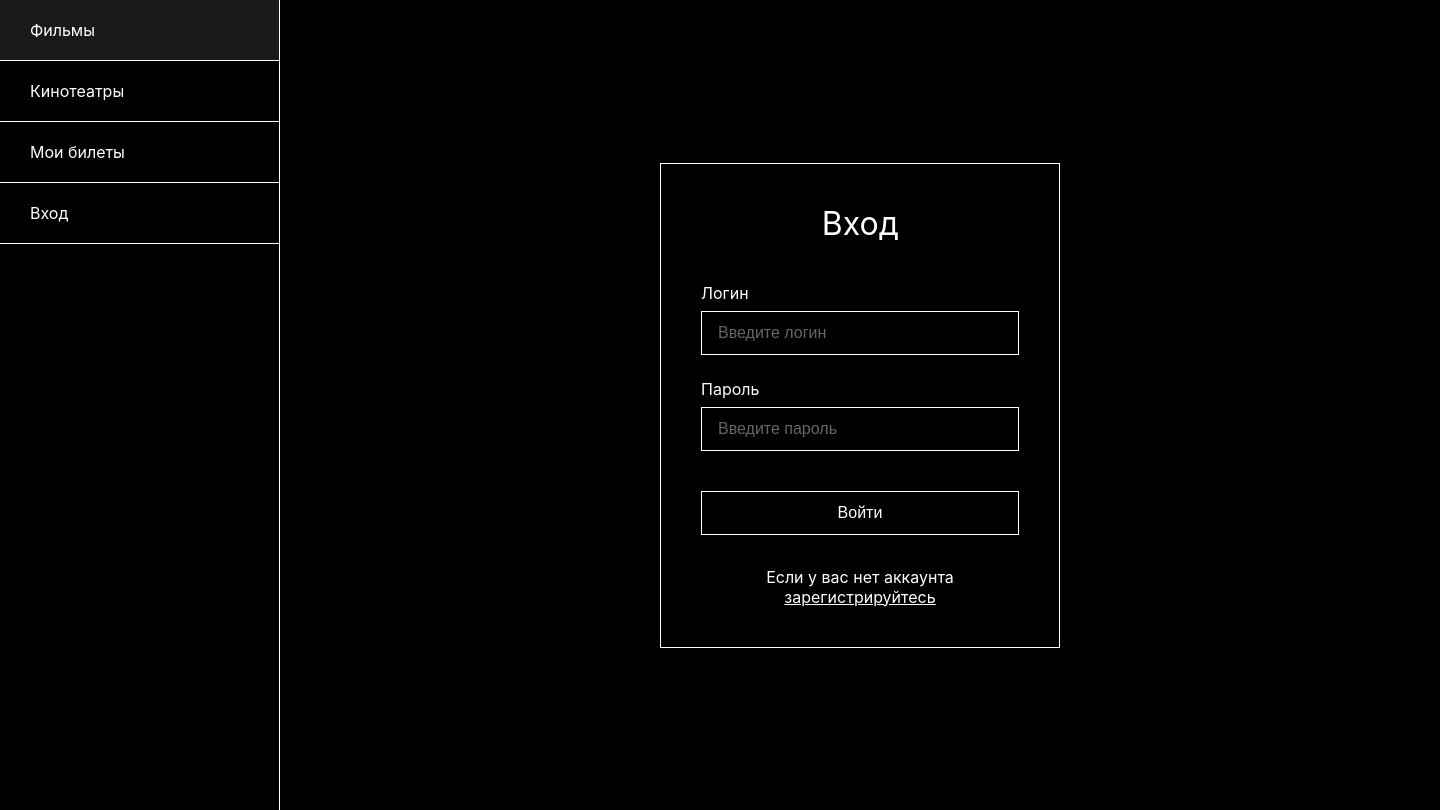
LoginPage › shows validation errors for empty fields
Step 1. Click the button "Войти" → click(860, 512), box [701,490,1019,534]
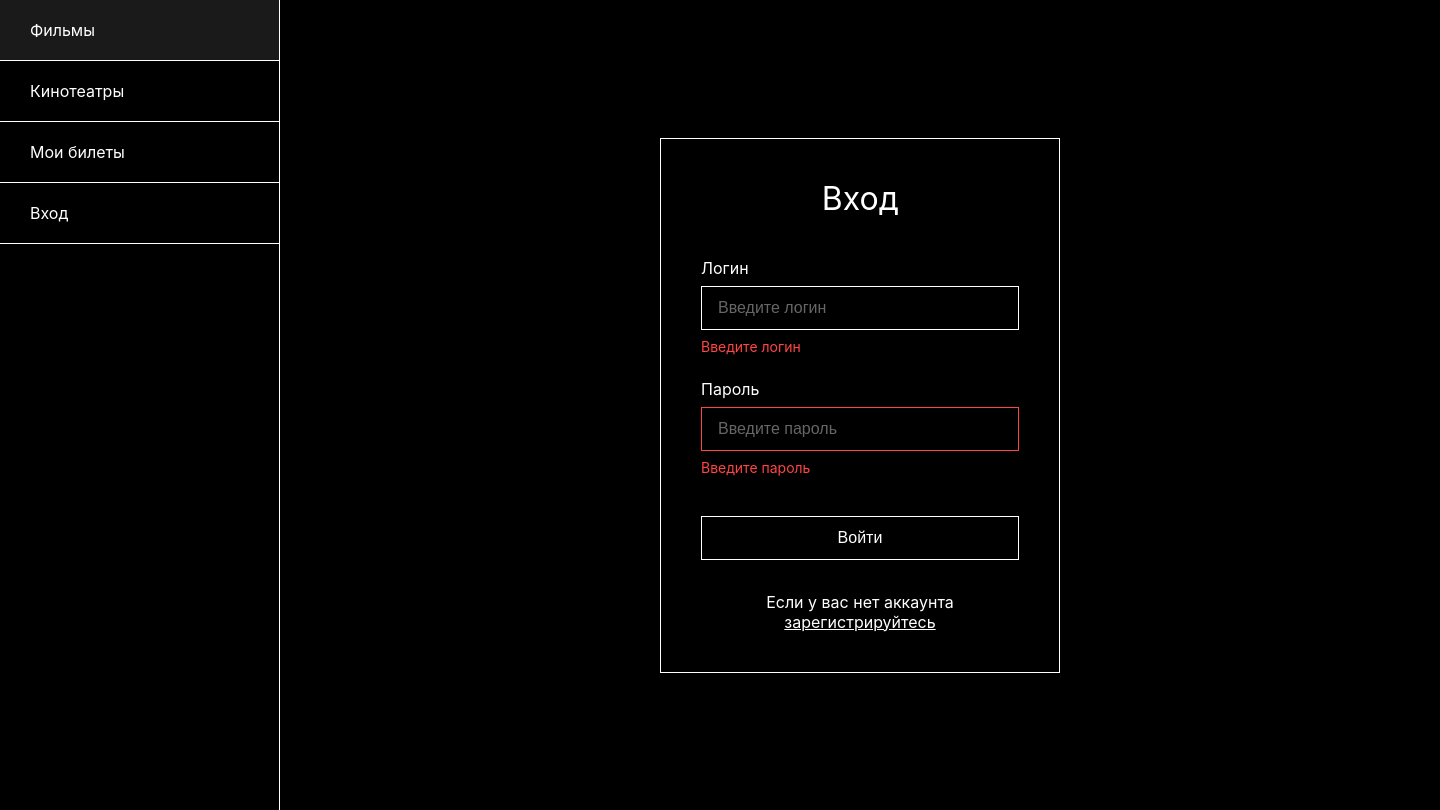
Check: the text "Введите логин" is shown, box [701,338,801,354]
Check: the text "Введите пароль" is shown, box [701,458,810,476]
